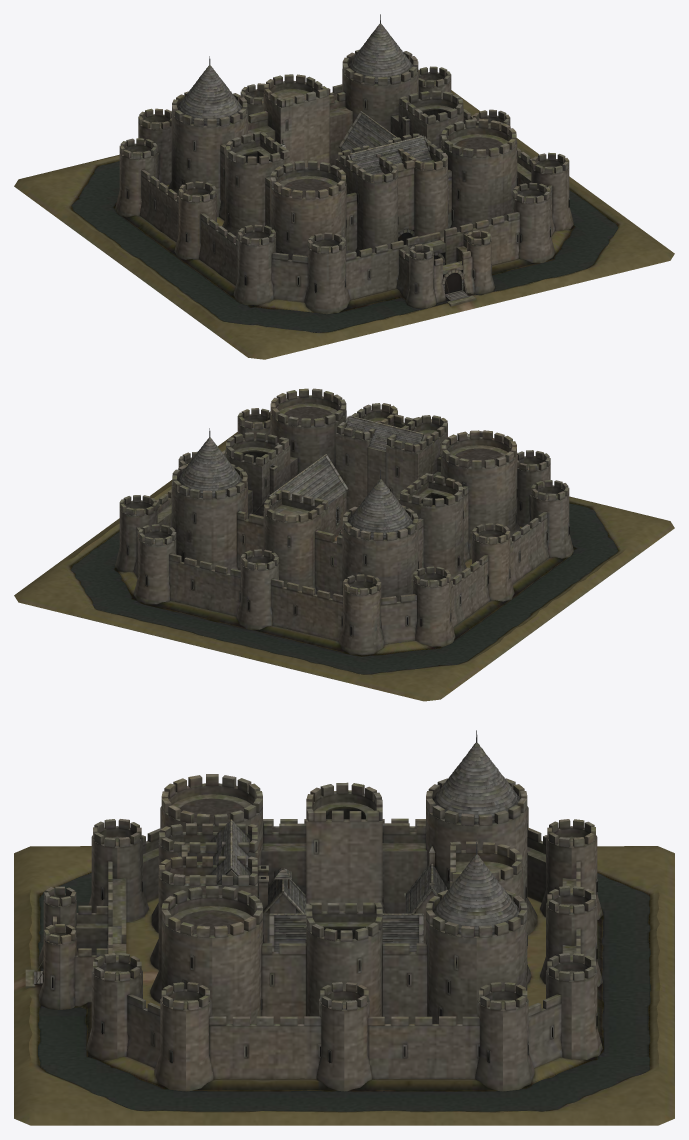
Rendered from concentric_castle.glb.
The picture shows the model from 3 angles, top to bottom: view 1: azimuth 30°, elevation 25°; view 2: azimuth 150°, elevation 25°; view 3: azimuth 270°, elevation 25°; orthographic projection. The views are drawn at different scales.
Parts seen in each view (by area): view 1: concentric_castle_LOD0; view 2: concentric_castle_LOD0; view 3: concentric_castle_LOD0.
Part boxes in pixels (x1,y1,x2,y2): concentric_castle_LOD0: (14, 14, 674, 359); concentric_castle_LOD0: (14, 388, 674, 701); concentric_castle_LOD0: (14, 730, 674, 1125).
Size of what is drawn, in the model's own units: 80 by 26.65 by 80.
1 material, 1 textured.
